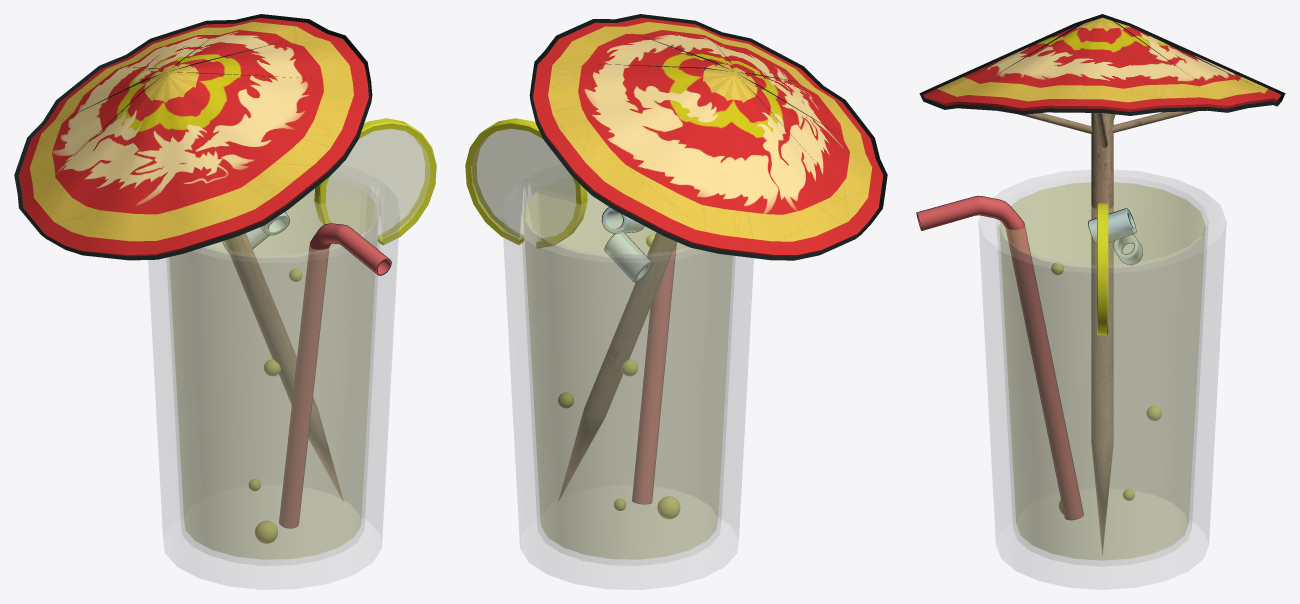
The model's file is drink.glb.
3 renders of one model, left to right at view 1: azimuth 30°, elevation 25°; view 2: azimuth 150°, elevation 25°; view 3: azimuth 270°, elevation 25°, orthographic. The views are drawn at different scales.
Parts seen in each view (by area): view 1: polySurface2, pCylinder10, polySurface7, pCylinder9, polySurface12, polySurface6, pCylinder2; view 2: polySurface2, pCylinder10, polySurface7, pCylinder9, pCylinder2, polySurface12, polySurface6, polySurface5, polySurface3; view 3: polySurface2, pCylinder10, polySurface7, polySurface12, pCylinder2, polySurface6, pCylinder9, polySurface3, pCylinder7, polySurface5, pCylinder8.
Boxes of the visible parts, bbox=[...] form: polySurface2: bbox=[148, 184, 399, 589]; pCylinder10: bbox=[169, 177, 378, 559]; polySurface7: bbox=[18, 18, 368, 256]; pCylinder9: bbox=[314, 118, 436, 245]; polySurface12: bbox=[279, 223, 391, 528]; polySurface6: bbox=[14, 14, 372, 260]; pCylinder2: bbox=[224, 233, 343, 501]; polySurface2: bbox=[502, 184, 753, 589]; pCylinder10: bbox=[523, 177, 732, 559]; polySurface7: bbox=[533, 18, 883, 256]; pCylinder9: bbox=[465, 118, 587, 248]; pCylinder2: bbox=[558, 232, 676, 501]; polySurface12: bbox=[632, 244, 676, 504]; polySurface6: bbox=[529, 14, 887, 260]; polySurface5: bbox=[604, 232, 652, 282]; polySurface3: bbox=[601, 207, 644, 233]; polySurface2: bbox=[978, 170, 1226, 589]; pCylinder10: bbox=[999, 182, 1205, 560]; polySurface7: bbox=[923, 17, 1281, 111]; polySurface12: bbox=[916, 195, 1083, 520]; pCylinder2: bbox=[1091, 113, 1113, 555]; polySurface6: bbox=[919, 14, 1285, 115]; pCylinder9: bbox=[1097, 203, 1108, 335]; polySurface3: bbox=[1088, 208, 1136, 244]; pCylinder7: bbox=[1112, 111, 1197, 132]; polySurface5: bbox=[1113, 235, 1142, 265]; pCylinder8: bbox=[1018, 113, 1092, 133].
Size of the model in its own units: 0.0744 by 0.09 by 0.0624.
Materials: 11 (3 with a texture image).
